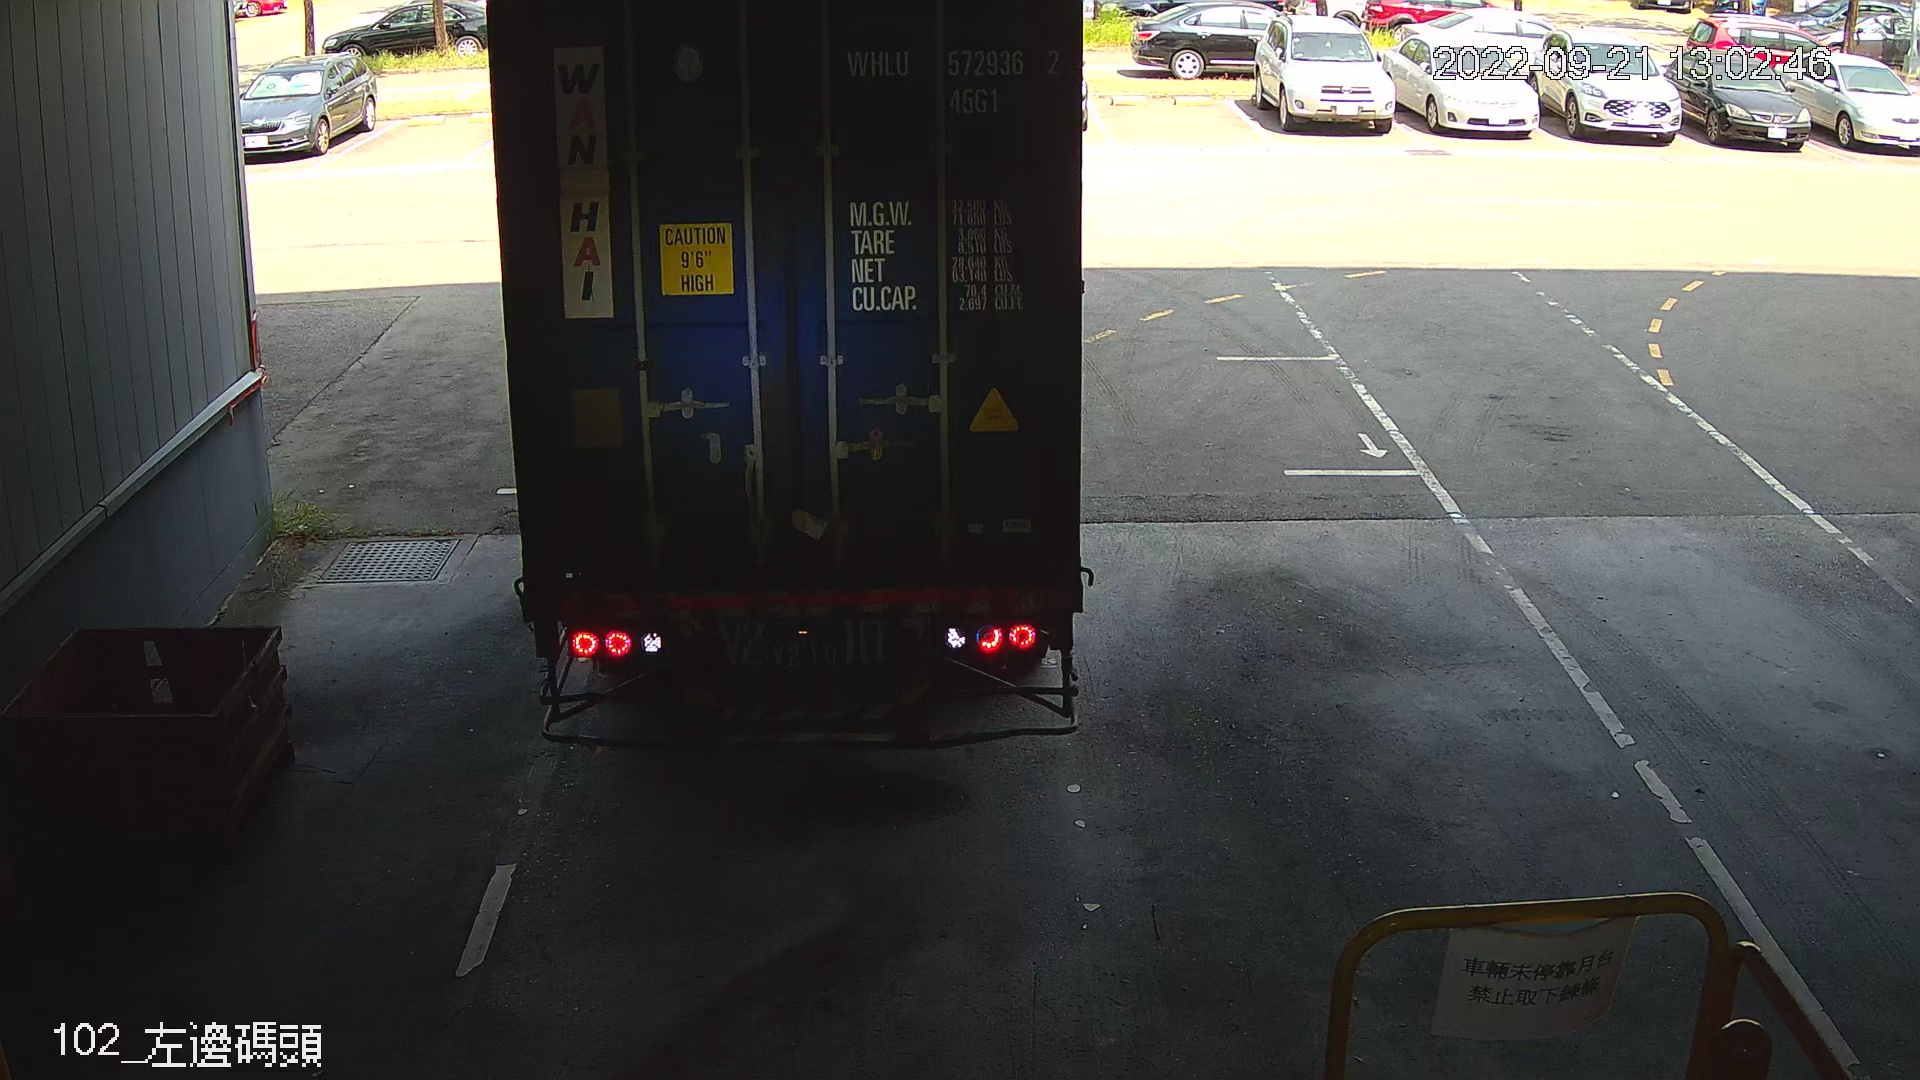container: (837, 36, 1072, 123)
